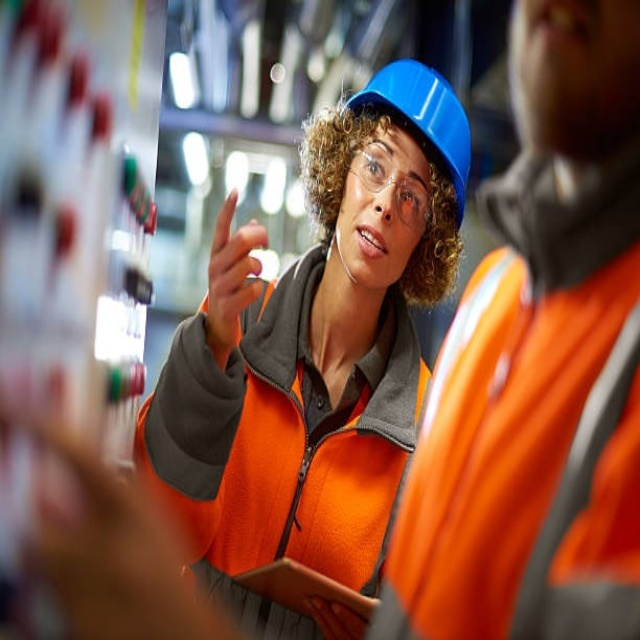Gafas: (349, 149, 436, 235)
Sin_guantes: (206, 187, 272, 354), (303, 590, 367, 640)
Sin_mascara: (341, 216, 395, 278)
